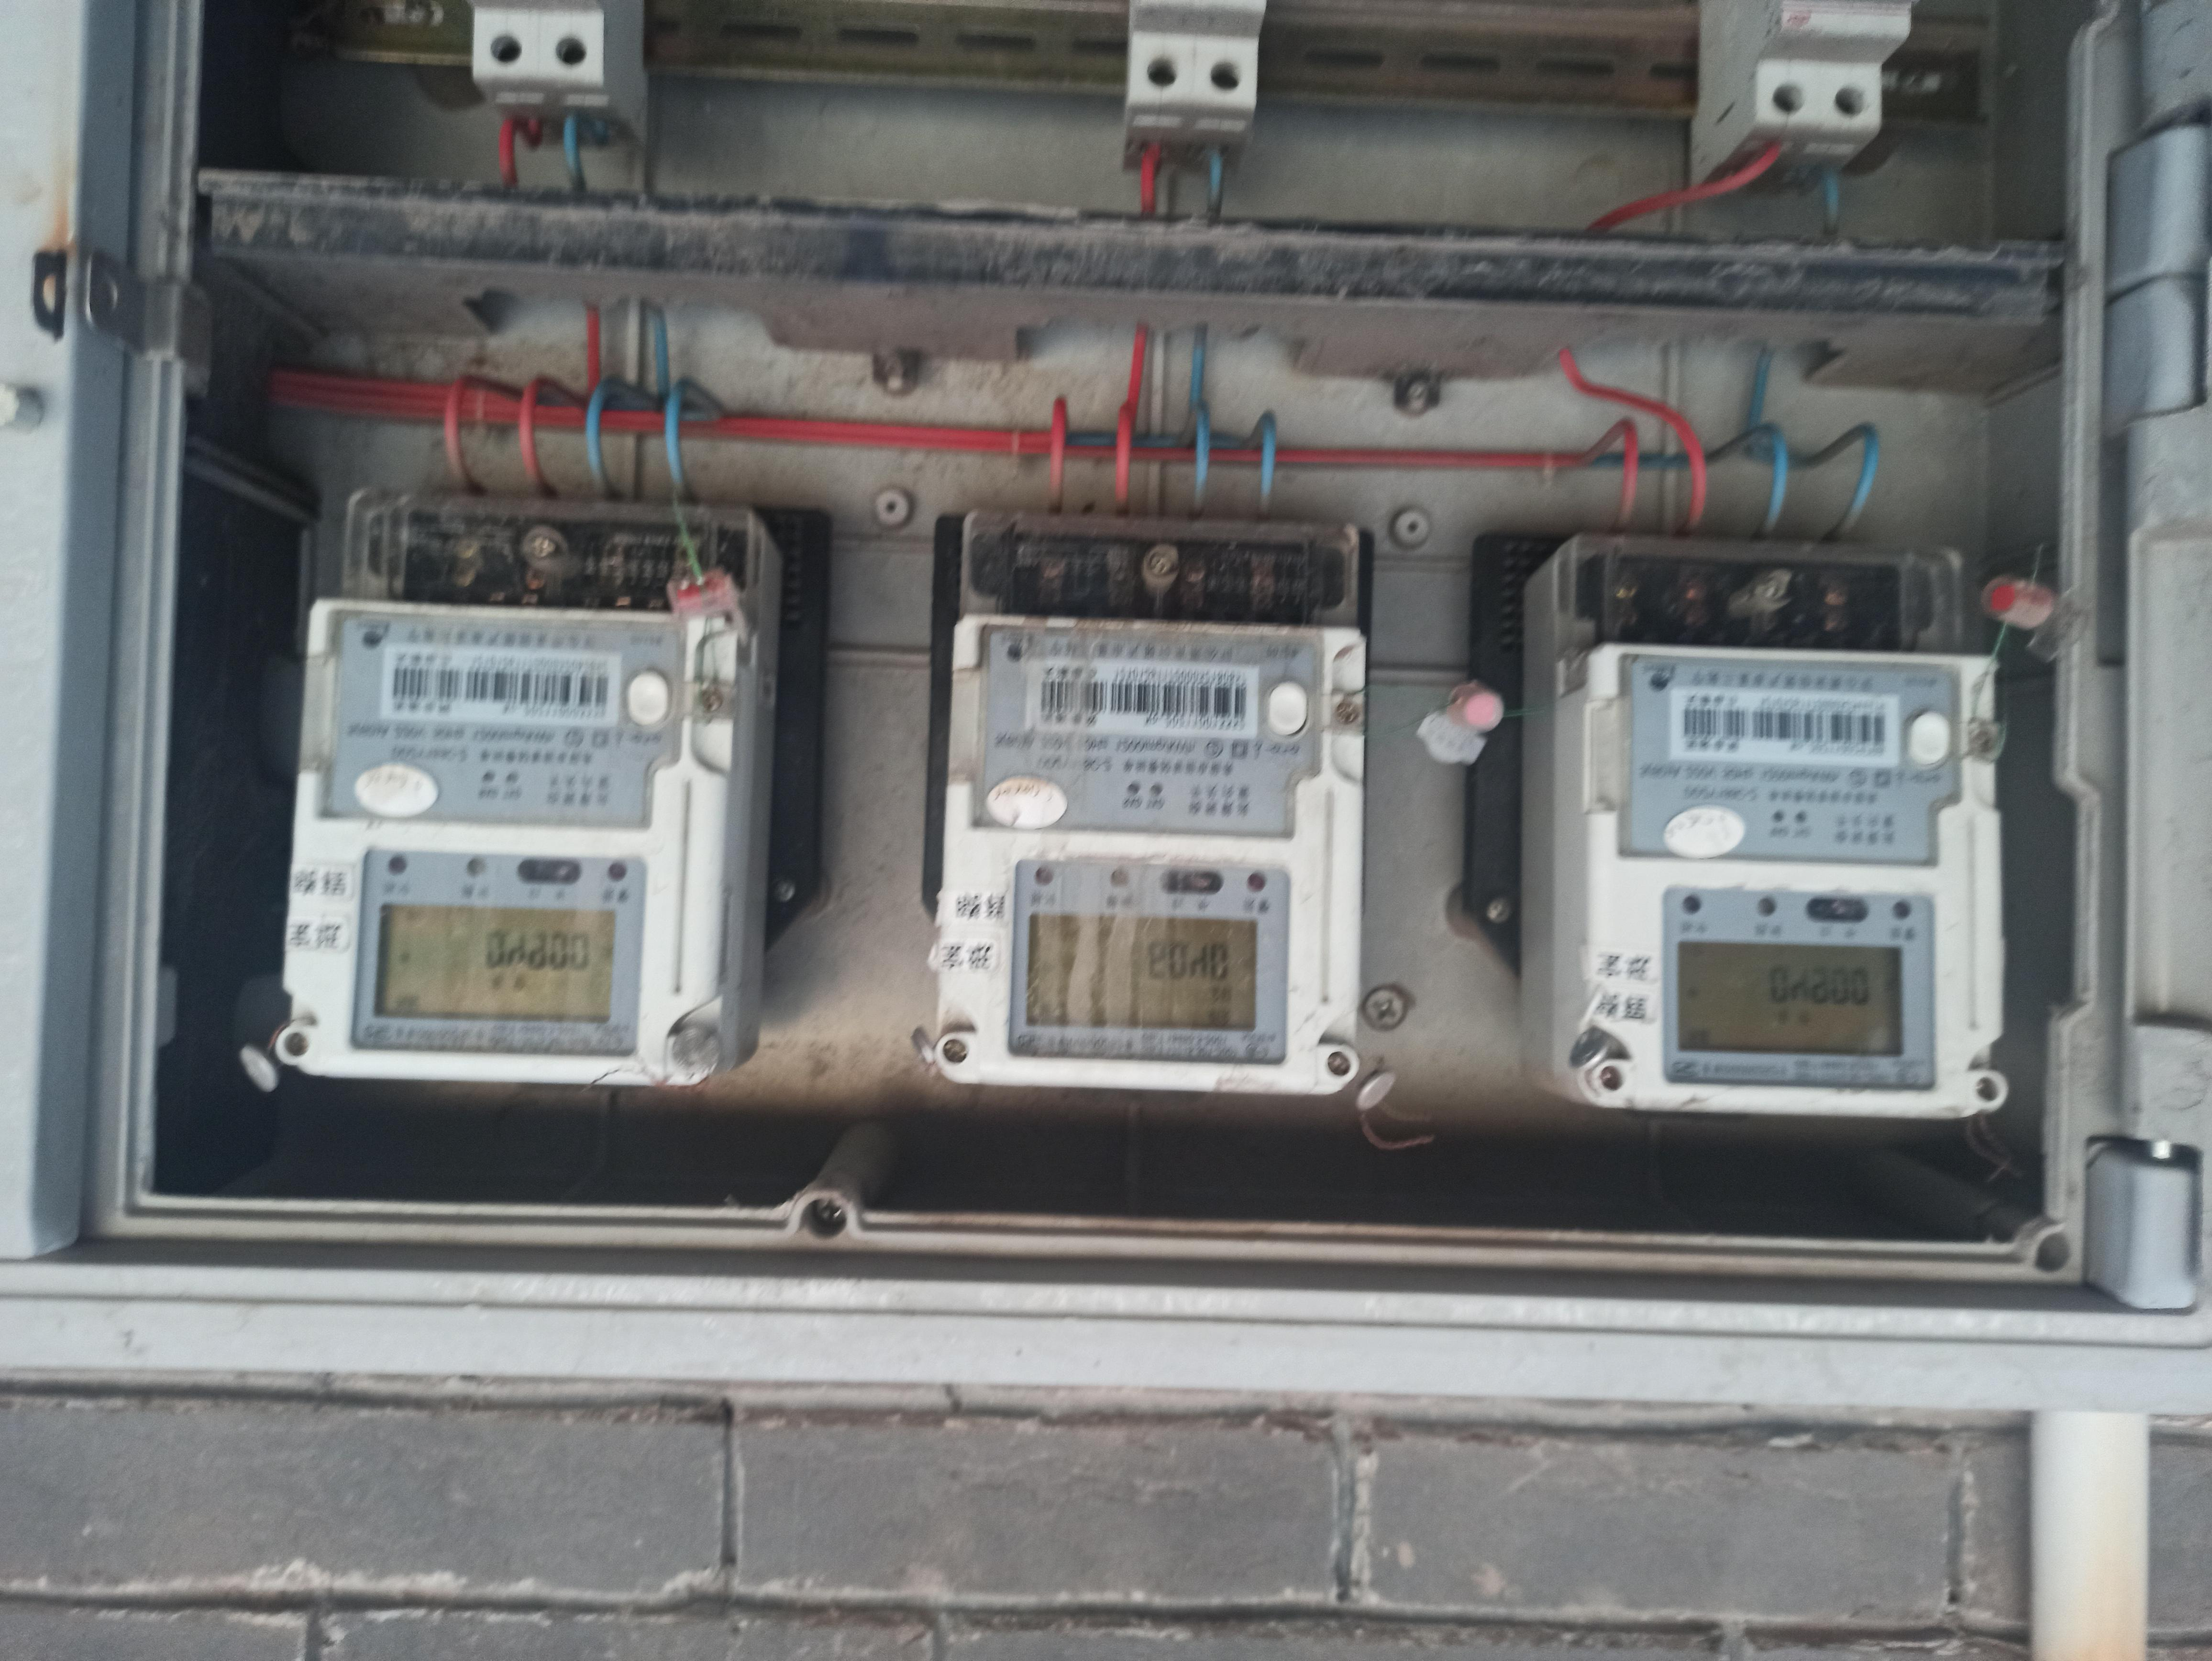digital: (290, 595, 720, 1082), (946, 607, 1364, 1089), (1591, 646, 2006, 1111)
